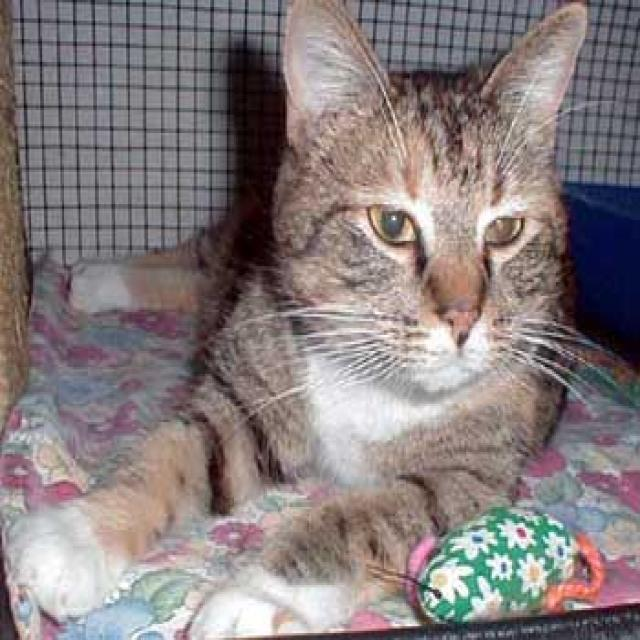Cats: (6, 0, 636, 629)
